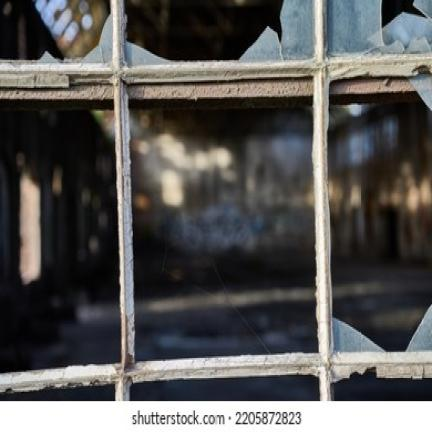besi_tidak_karat: (0, 0, 431, 401)
